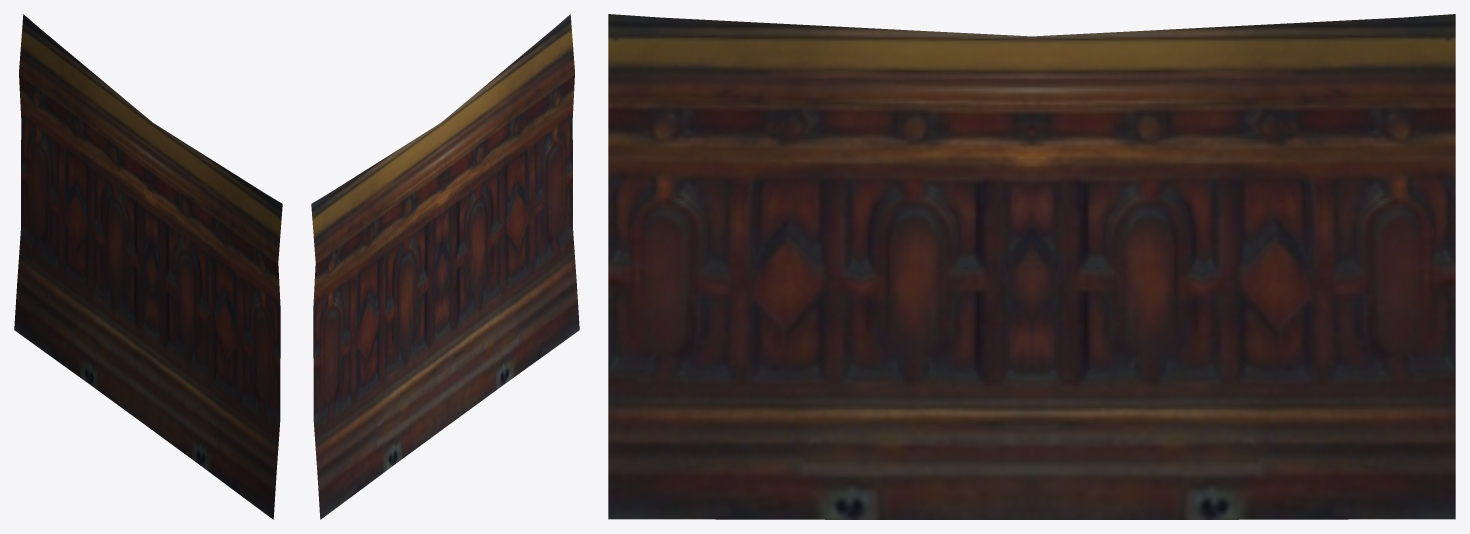
File: LivingRoom_GEO_GRP_LivingRoom_Wood_01.obj
The picture shows the model from 3 angles, left to right: view 1: azimuth 30°, elevation 25°; view 2: azimuth 150°, elevation 25°; view 3: azimuth 270°, elevation 25°; orthographic projection. The views are drawn at different scales.
Parts seen in each view (by area): view 1: LivingRoom_GEO_GRP_LivingRoom_Wood_01; view 2: LivingRoom_GEO_GRP_LivingRoom_Wood_01; view 3: LivingRoom_GEO_GRP_LivingRoom_Wood_01.
Boxes of the visible parts, x1,y1,x2,y2 form: LivingRoom_GEO_GRP_LivingRoom_Wood_01: [14, 14, 282, 519]; LivingRoom_GEO_GRP_LivingRoom_Wood_01: [311, 14, 579, 519]; LivingRoom_GEO_GRP_LivingRoom_Wood_01: [608, 14, 1455, 519].
Size of the model in its own units: 0.0389 by 1.29 by 1.93.
Materials: 1 (1 with a texture image).
